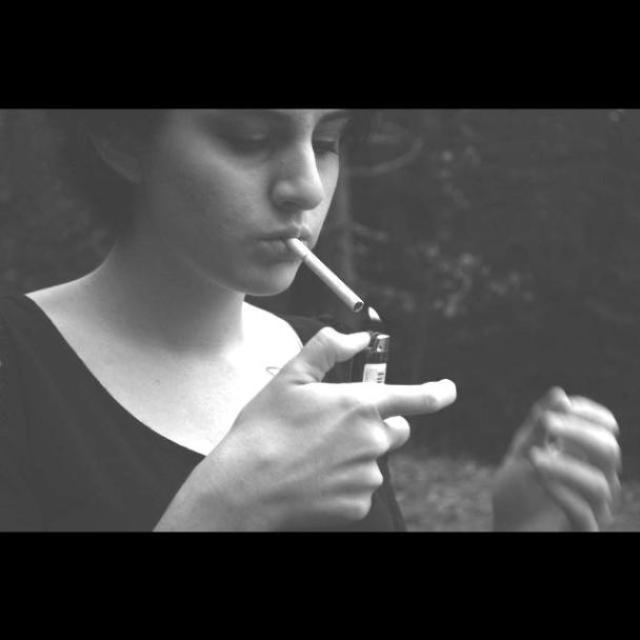rokok: (272, 225, 368, 318)
